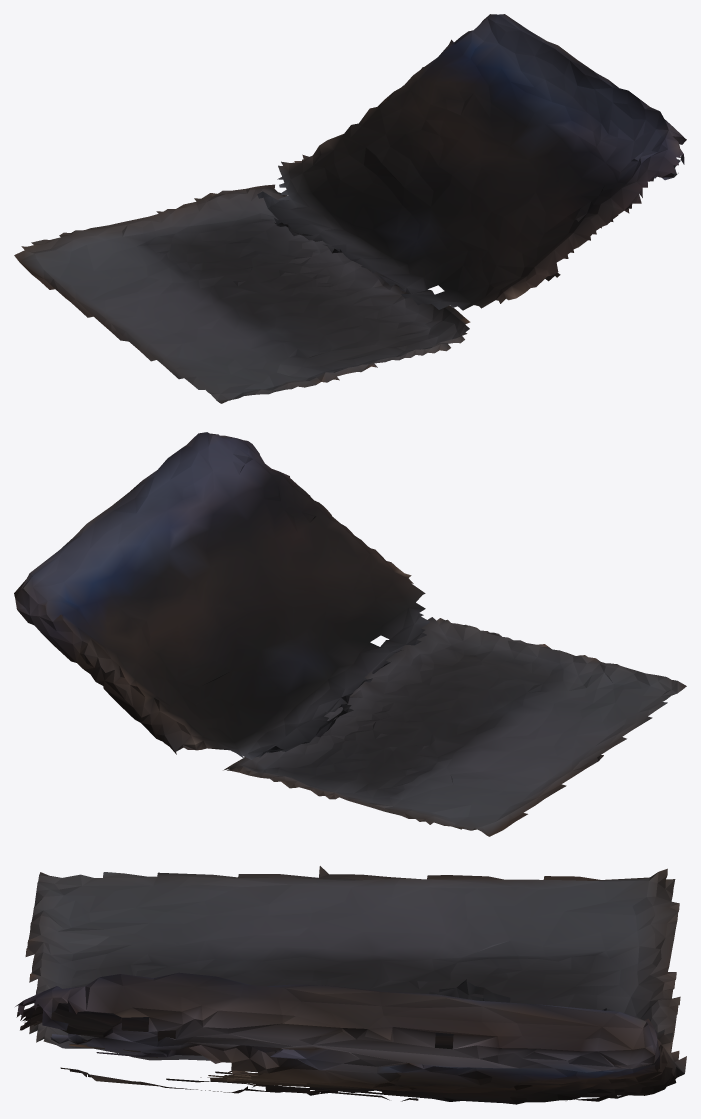
File: mac_1r.glb
The picture shows the model from 3 angles, top to bottom: view 1: azimuth 30°, elevation 25°; view 2: azimuth 150°, elevation 25°; view 3: azimuth 270°, elevation 25°; orthographic projection. The views are drawn at different scales.
Parts seen in each view (by area): view 1: part_1_aligned, part_0_aligned; view 2: part_1_aligned, part_0_aligned; view 3: part_0_aligned, part_1_aligned.
Part boxes in pixels (x1,y1,x2,y2): part_1_aligned: (257, 14, 686, 310); part_0_aligned: (14, 184, 470, 403); part_1_aligned: (14, 432, 430, 759); part_0_aligned: (223, 617, 686, 836); part_0_aligned: (25, 866, 680, 1060); part_1_aligned: (15, 972, 686, 1104).
Bounding box in the file's own units: 0.7753 × 0.2533 × 0.6016.
